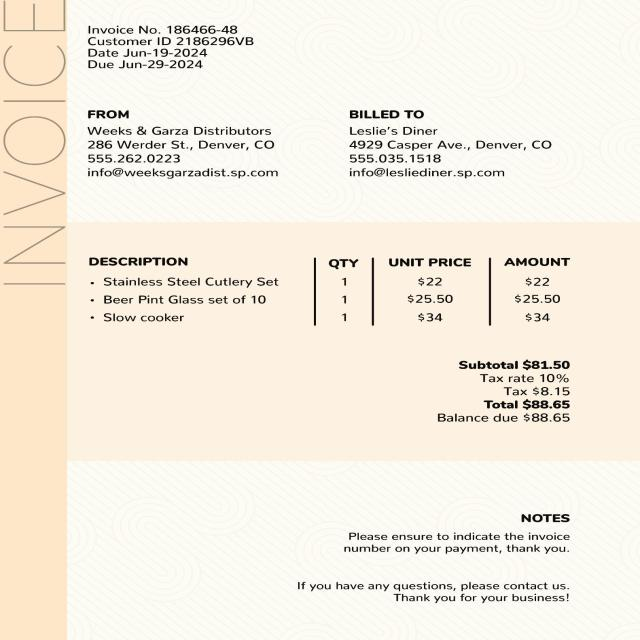paragraph: (82, 245, 597, 335), (0, 1, 73, 298), (285, 503, 587, 558), (81, 105, 294, 182), (420, 351, 595, 435), (286, 568, 590, 612), (82, 20, 262, 74)
table: (330, 102, 562, 191)
